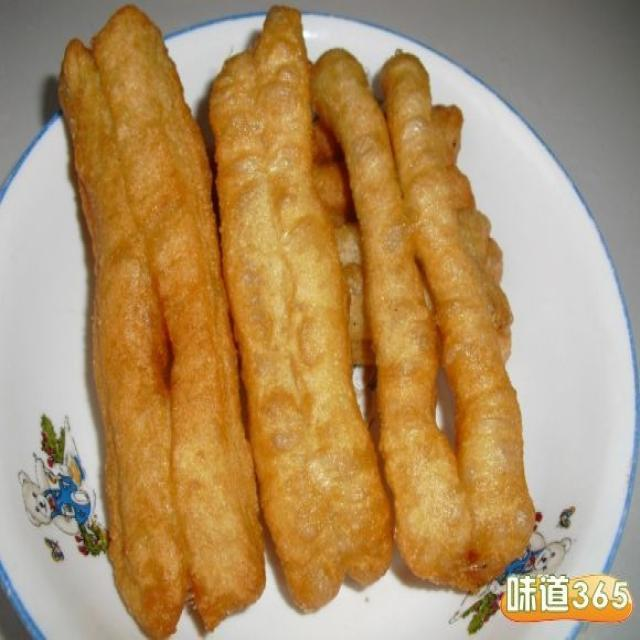炸货点心: (30, 31, 552, 613)
